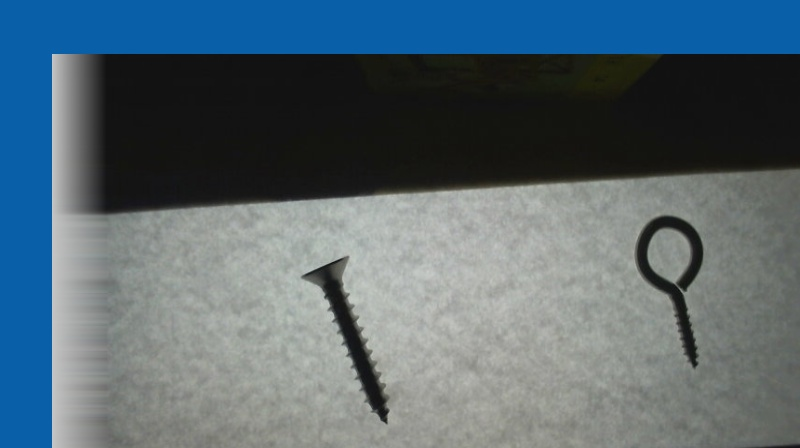O001: (630, 209, 706, 371)
S001: (293, 253, 392, 427)
